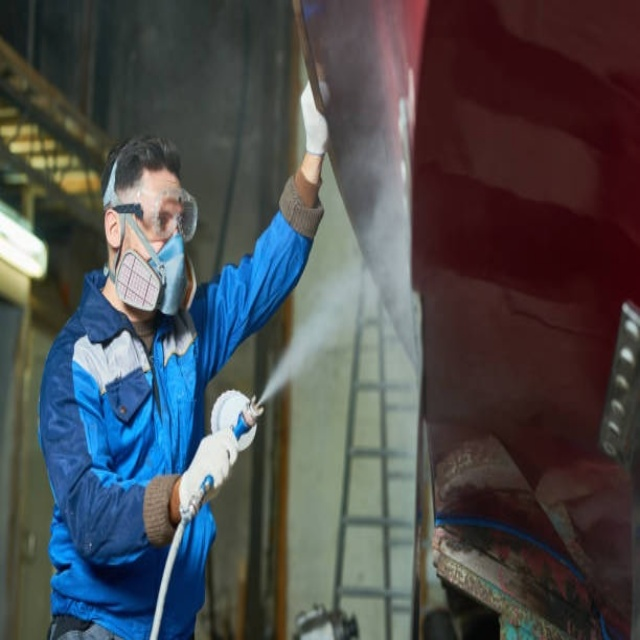Gafas: (105, 177, 201, 245)
Guantes: (182, 422, 241, 522), (299, 72, 332, 152)
Mascara: (113, 232, 200, 317)
